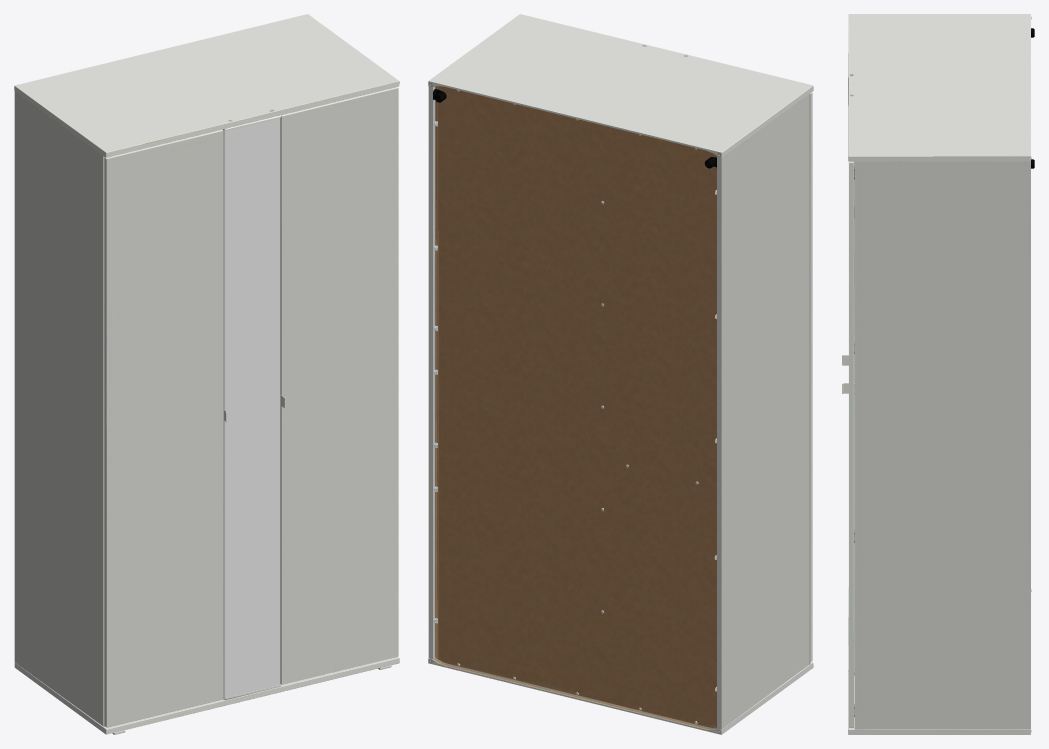
File: vihals_szafa_2_drzwi_60483255.glb
3 renders of one model, left to right at view 1: azimuth 30°, elevation 25°; view 2: azimuth 150°, elevation 25°; view 3: azimuth 270°, elevation 25°, orthographic.
Parts seen in each view (by area): view 1: vihals_szafa_2_drzwi_60483255; view 2: vihals_szafa_2_drzwi_60483255; view 3: vihals_szafa_2_drzwi_60483255.
Boxes of the visible parts, x1,y1,x2,y2 form: vihals_szafa_2_drzwi_60483255: [14, 14, 399, 734]; vihals_szafa_2_drzwi_60483255: [428, 14, 813, 734]; vihals_szafa_2_drzwi_60483255: [842, 14, 1034, 734].
Size of the model in its own units: 1.05 by 2 by 0.6009.
Materials: 2 (2 with a texture image).
